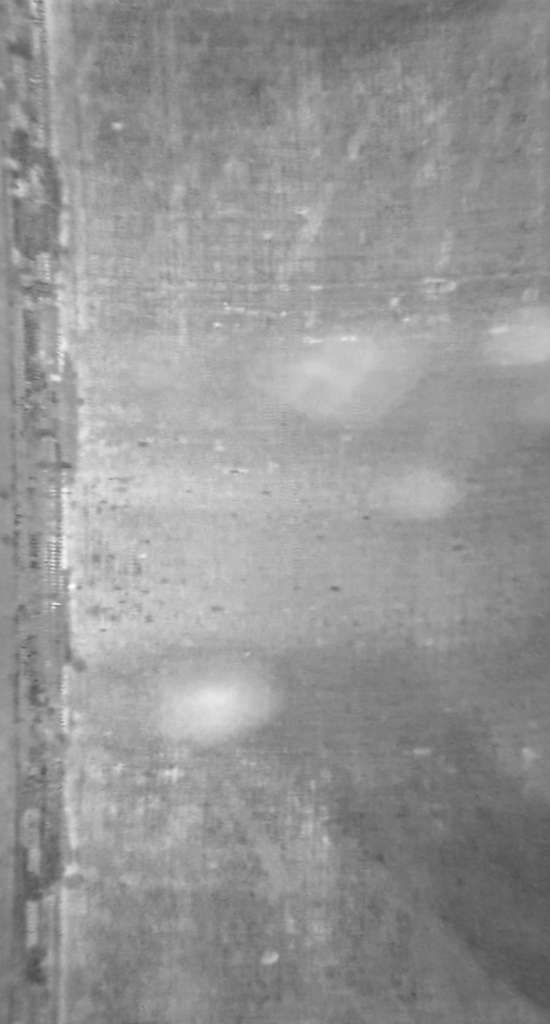splice: (7, 1, 69, 1019)
